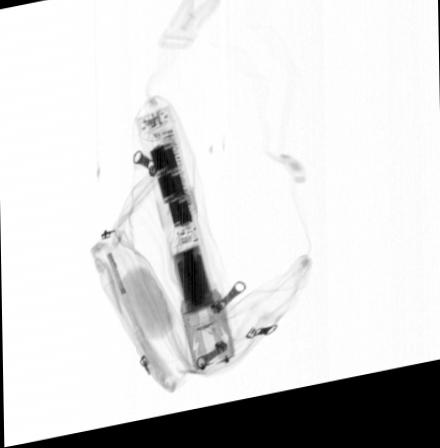Baton: (131, 109, 237, 379)
